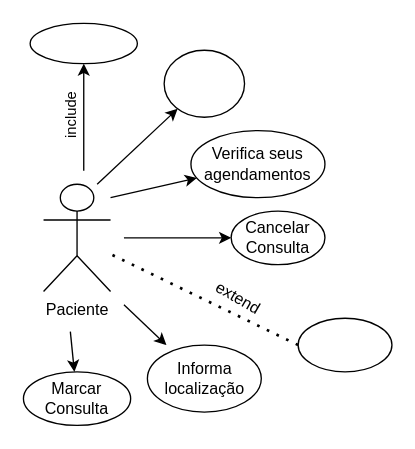
The diagram is 415 pixels wide and 449 high, and some of its shapes have lost their labels. The box of each missing label's shape, as (x1, y1, x2, y2) in pixels:
acessa noticias: (297, 317, 392, 372)
Cadastrar-se: (29, 22, 137, 64)
Consultar médicos: (163, 49, 245, 117)
